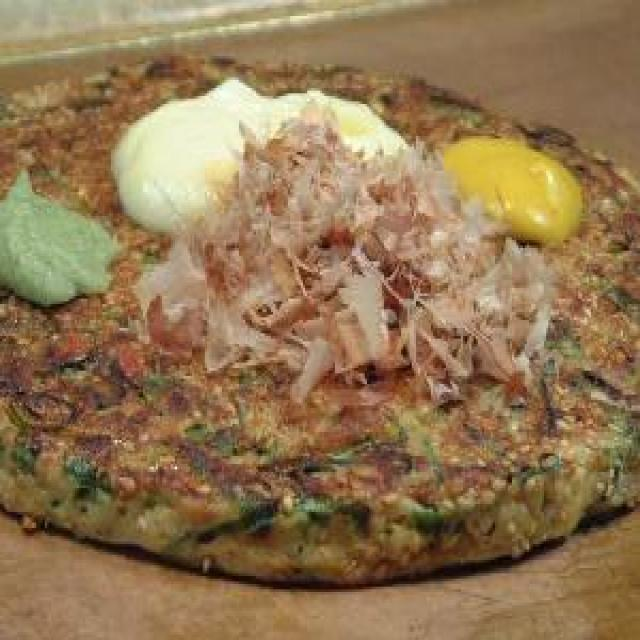蛋糕甜品: (0, 51, 640, 586)
